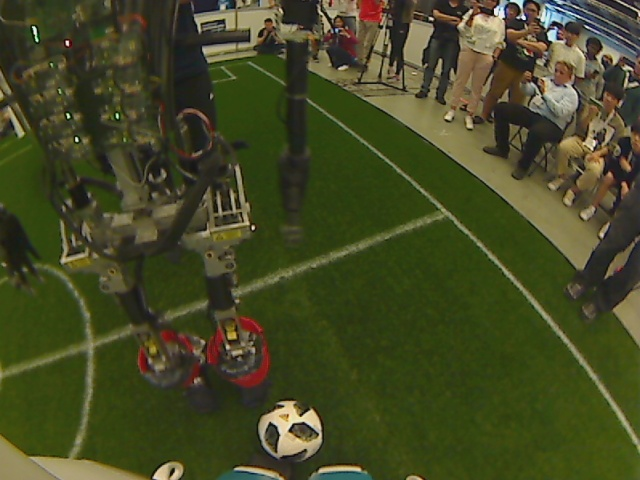ball: (256, 398, 324, 461)
